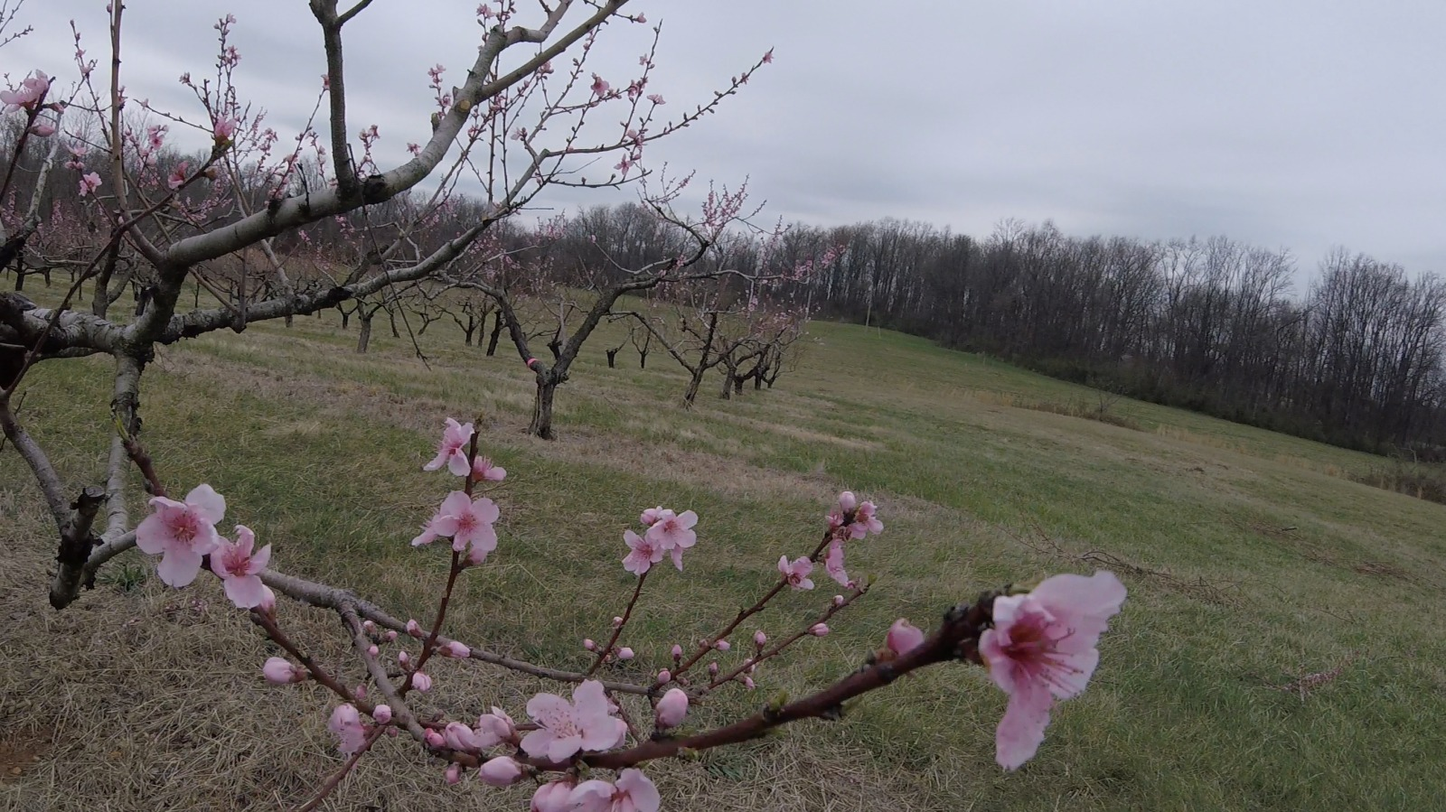flower: (978, 568, 1130, 773), (134, 484, 271, 610), (521, 679, 630, 763), (412, 490, 500, 565), (531, 769, 662, 812), (622, 507, 699, 577), (425, 706, 518, 750), (424, 417, 475, 476), (826, 492, 884, 540), (0, 70, 52, 113), (330, 704, 367, 755), (825, 539, 854, 589), (653, 688, 689, 727), (888, 619, 925, 656), (480, 756, 521, 788), (779, 556, 815, 590), (474, 456, 507, 481), (167, 162, 195, 190), (264, 658, 296, 681), (214, 116, 238, 139), (412, 673, 432, 692), (373, 705, 392, 725), (449, 642, 471, 658), (811, 623, 831, 636), (710, 639, 731, 651), (755, 629, 766, 650), (619, 648, 634, 658), (672, 645, 682, 657), (584, 639, 595, 649), (571, 685, 574, 691), (707, 640, 709, 644)
